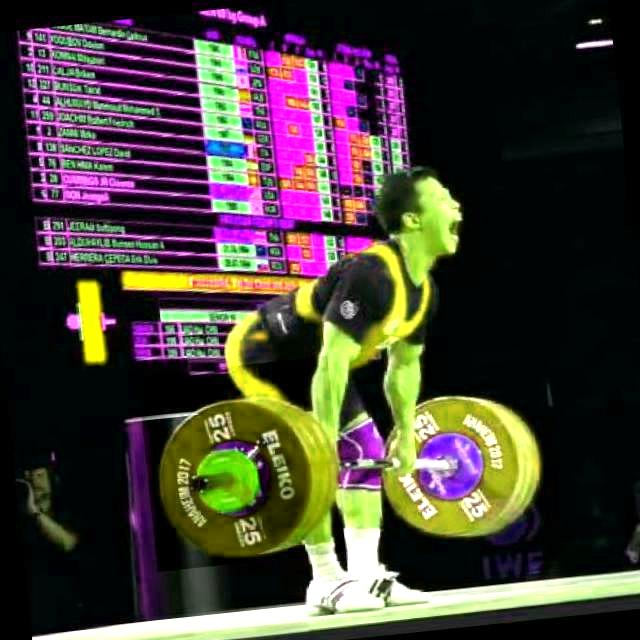barbell: (138, 357, 349, 572)
